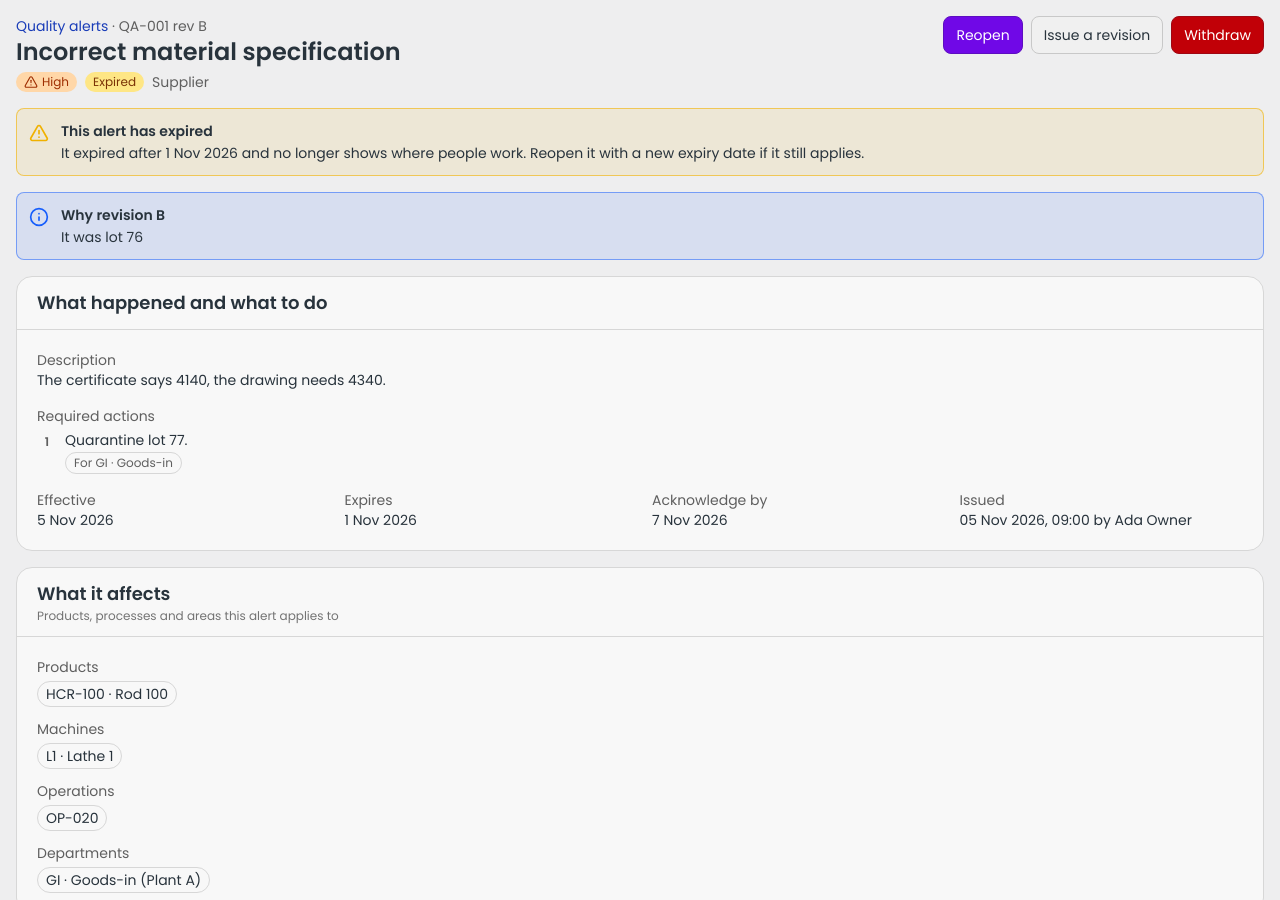
Quality alert page › an expired alert says so, can be reopened with a new expiry date and a reason, and shows its history
Later steps or results of the test are not shown.
expect the text "This alert has expired" is shown: met, box [61, 121, 213, 141]
Click the button "Reopen": (983, 35) [943, 16, 1023, 54]
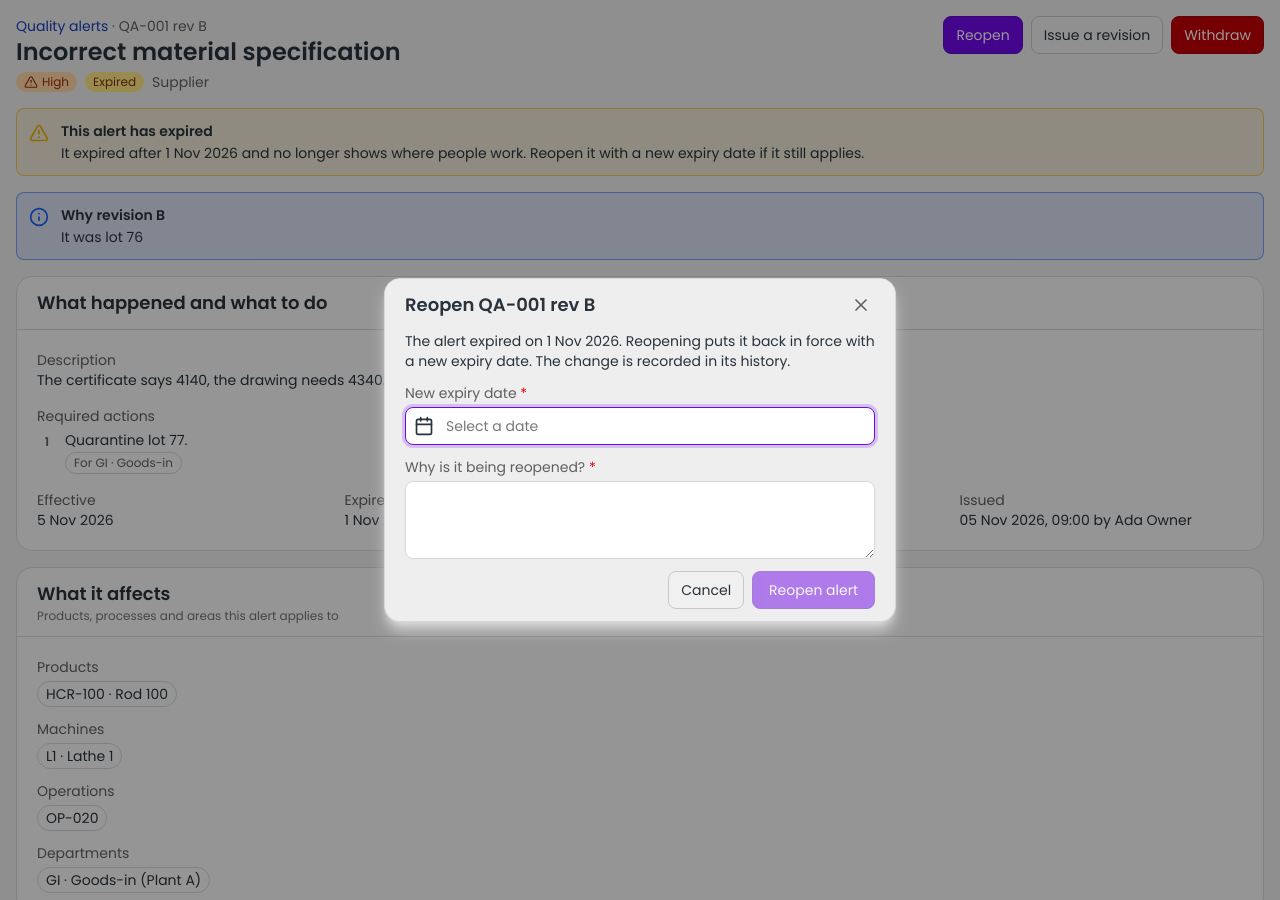
expect the button "Reopen alert" is disabled: met, box [752, 571, 875, 609]
In the text box labelled "Why is it being reopened?": (640, 520) [405, 481, 875, 559], type "Still needed for the next batch"
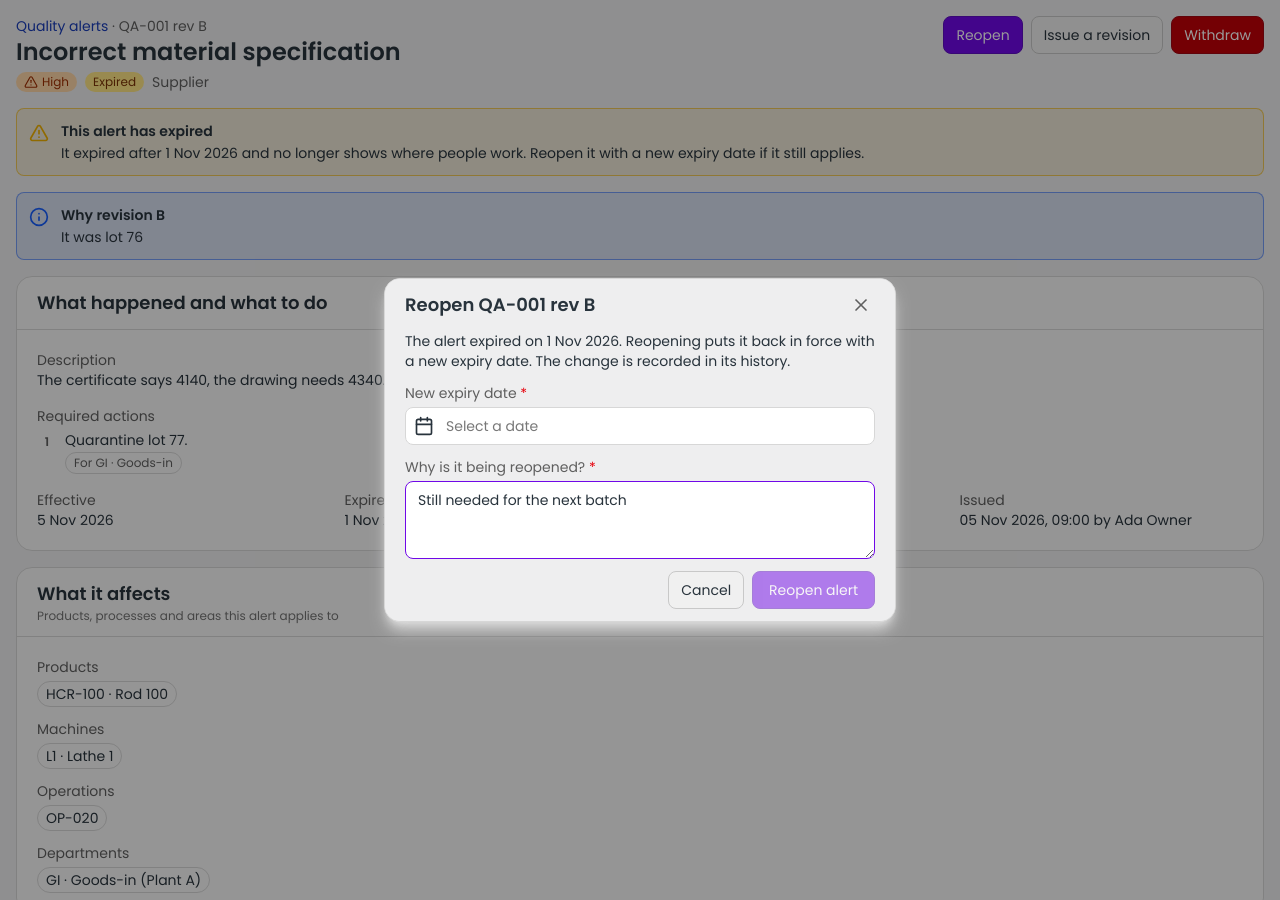
expect the button "Reopen alert" is disabled: met, box [752, 571, 875, 609]
Click the button named "New expiry date": (492, 426) [405, 407, 875, 445]
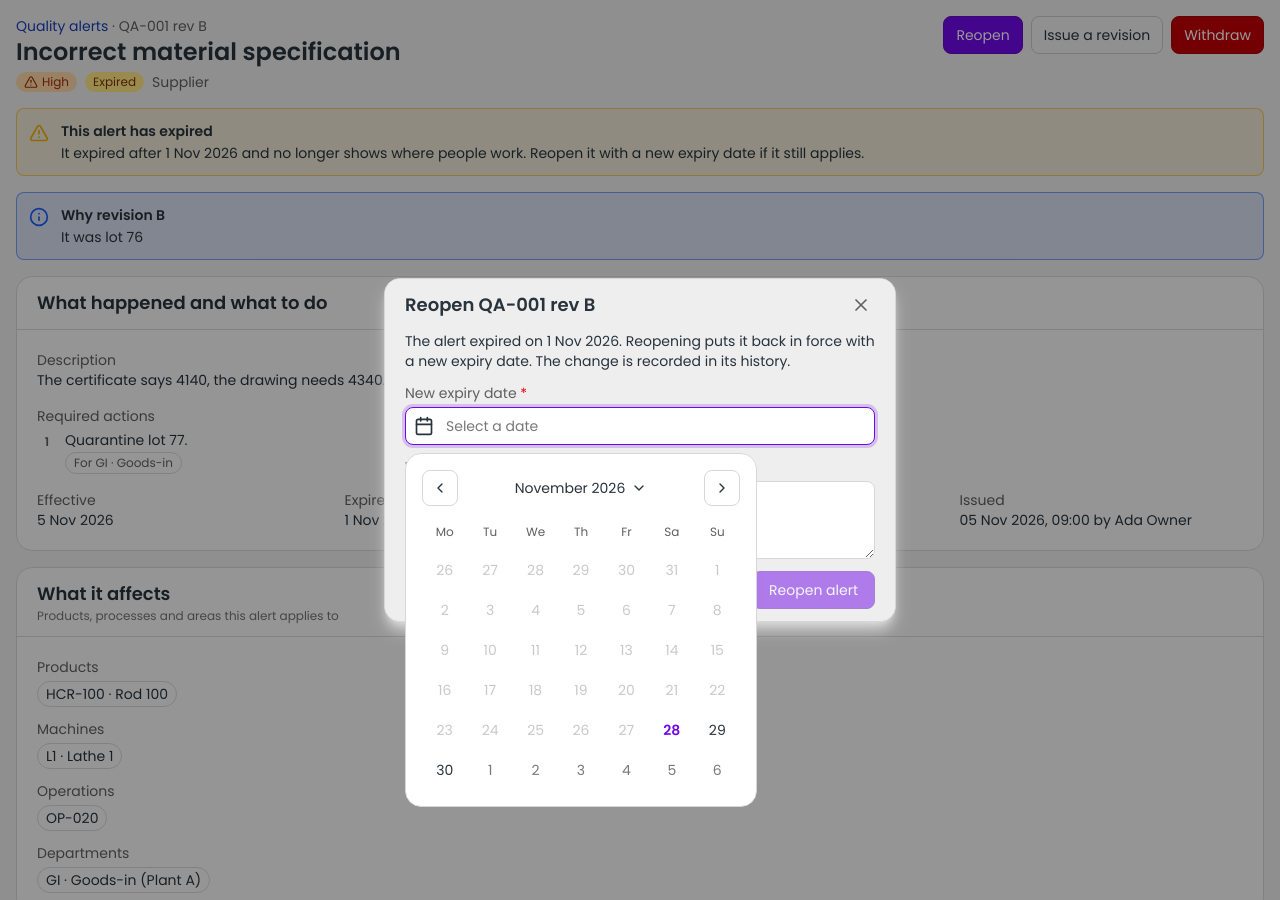
Click the 2nd button "30": (445, 770) [427, 752, 463, 788]
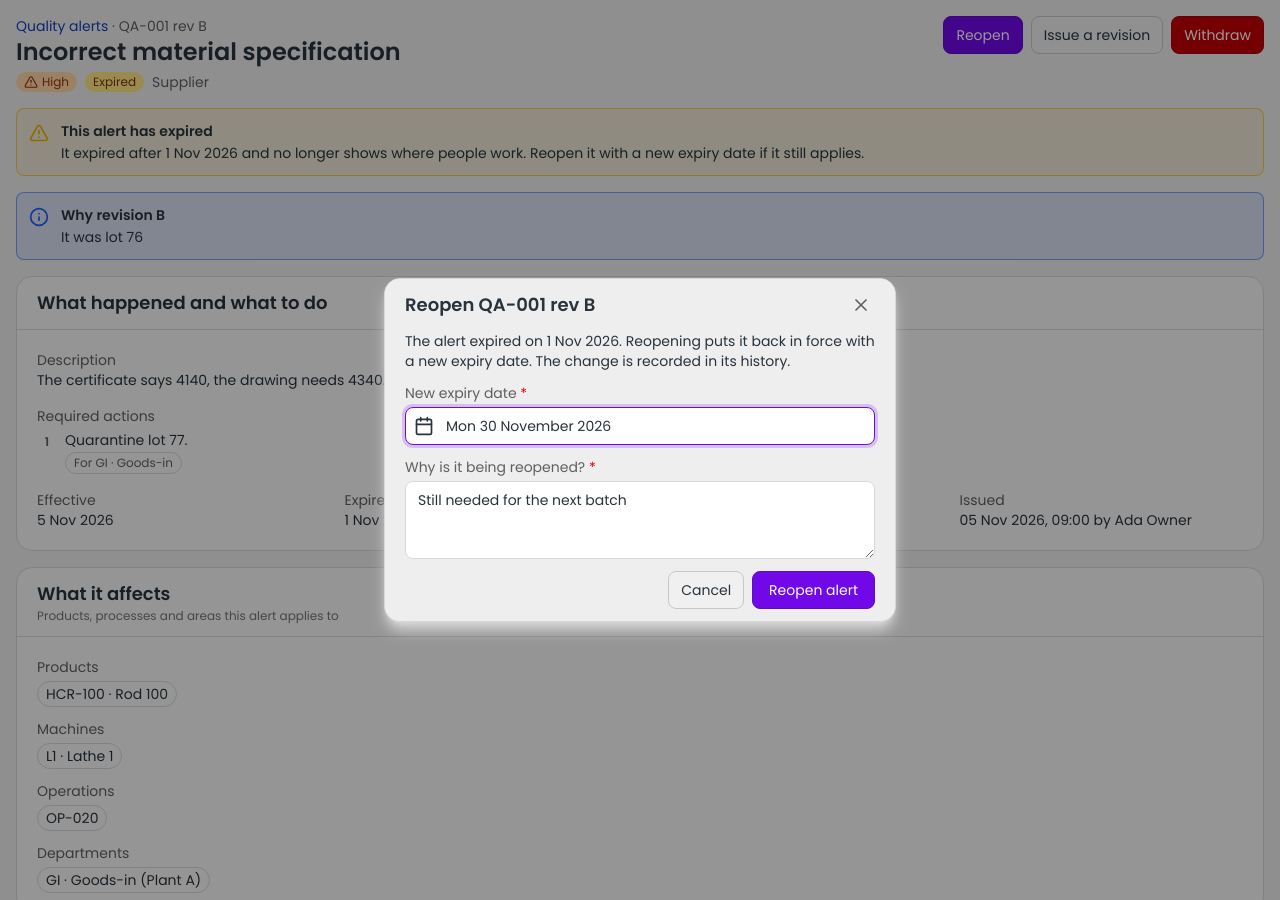
expect the button "Reopen alert" is enabled: met, box [752, 571, 875, 609]
